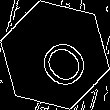O_NW: (22, 21, 88, 89)
